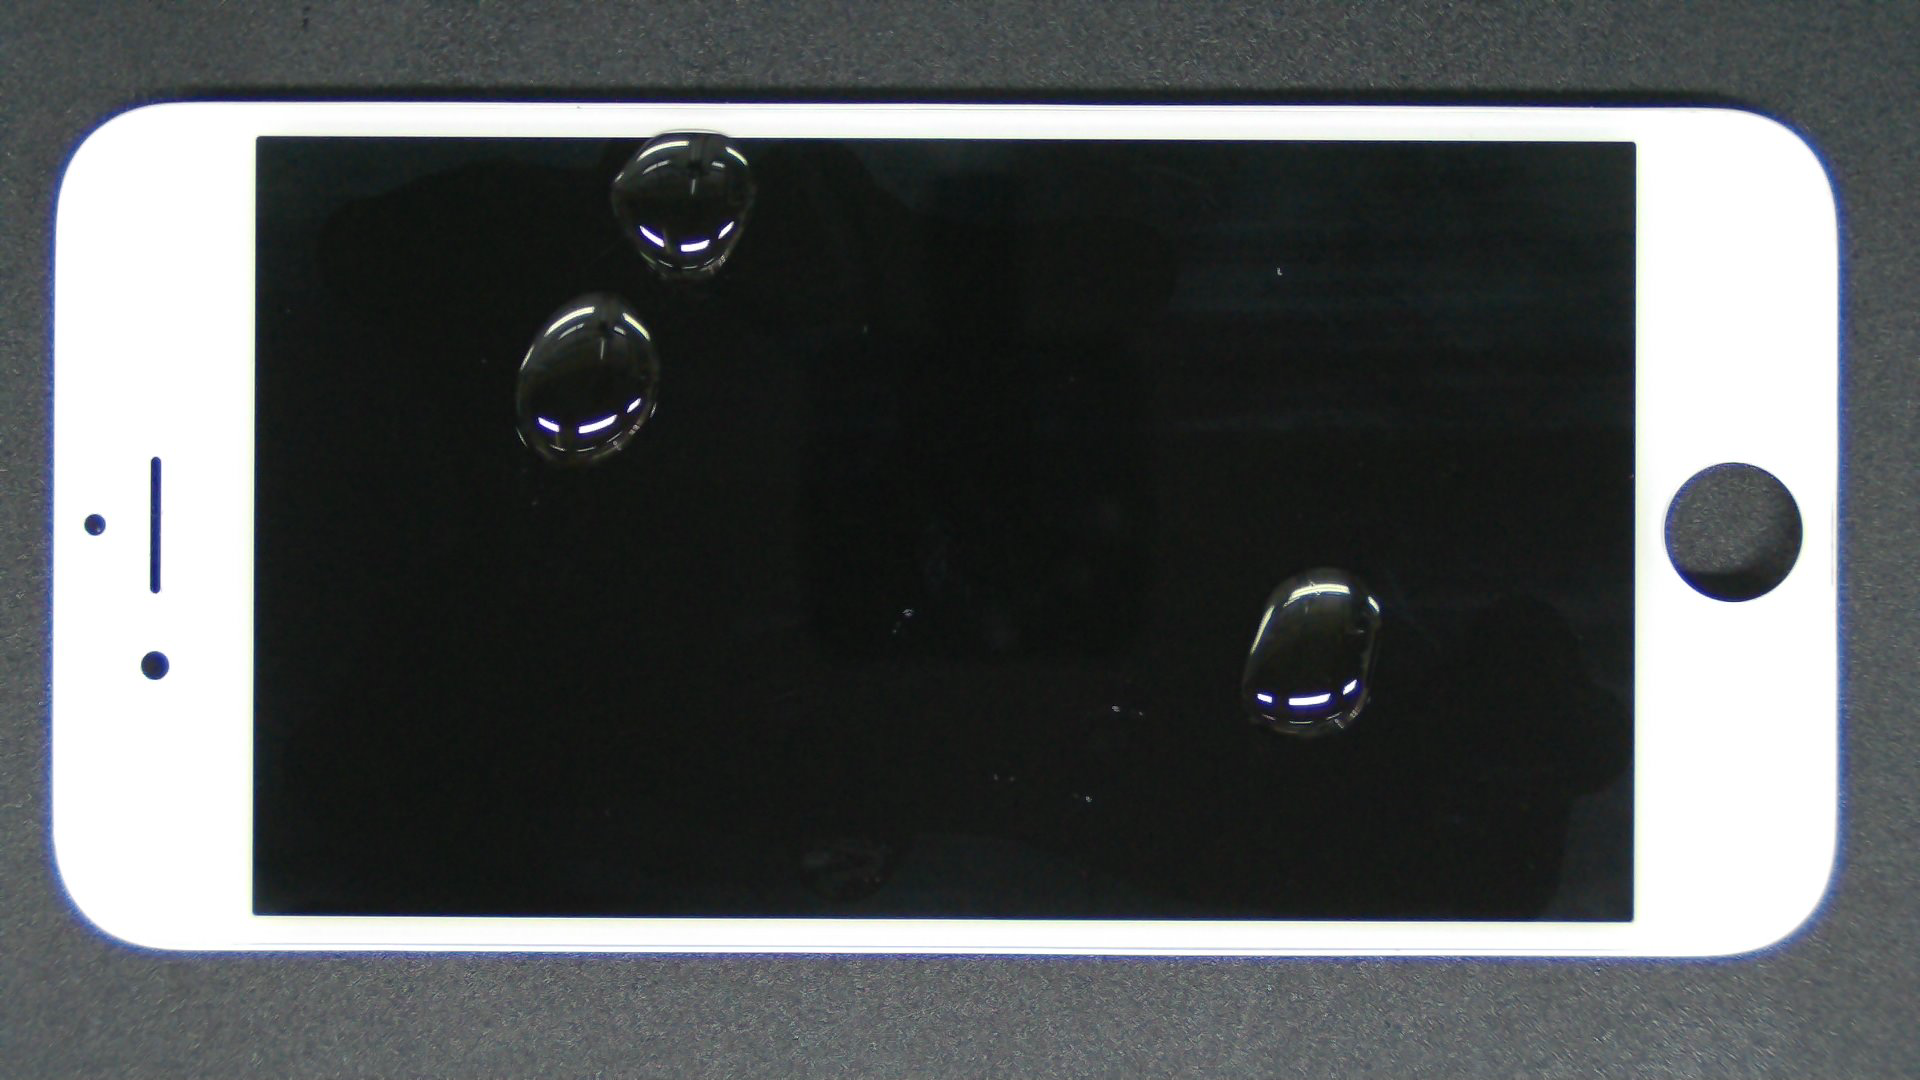defect: (516, 291, 659, 464), (1240, 567, 1382, 736), (609, 128, 756, 280)
